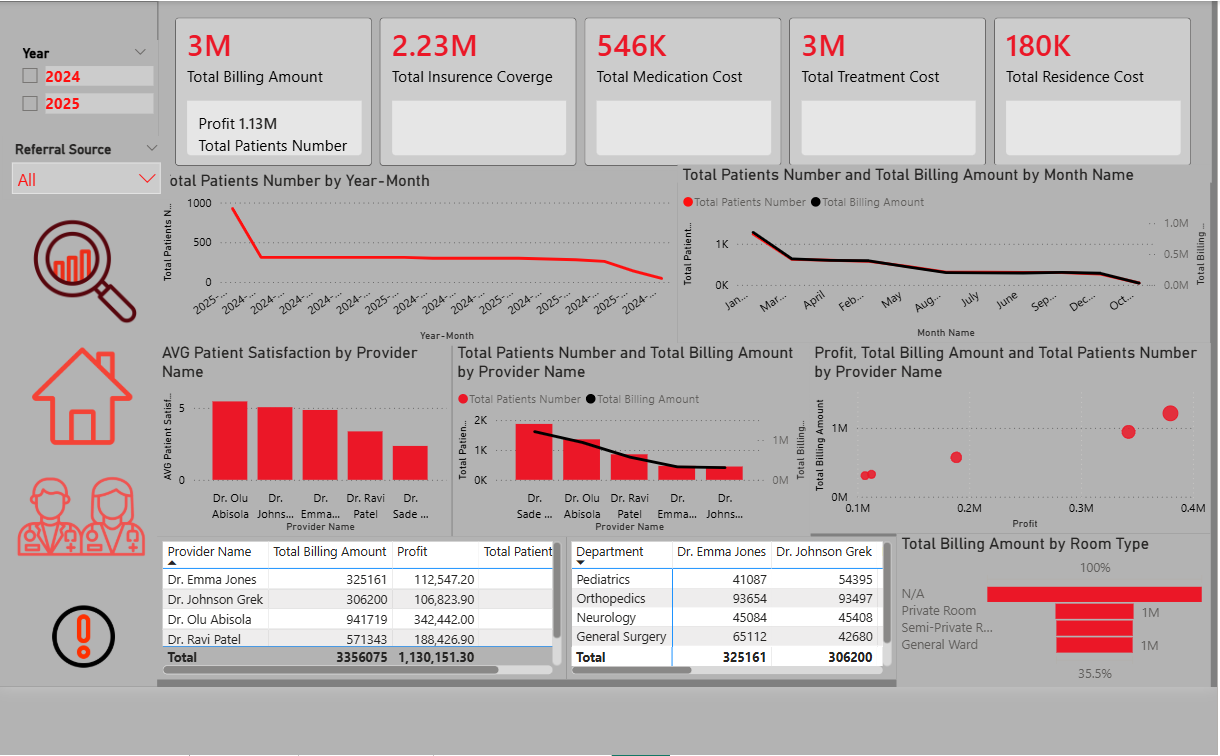

What the dashboard file says about the page in this screenshot:
{"tool":"powerbi","page":{"name":"More Detailed","canvas":[1280,720],"ordinal":2},"visuals":[{"type":"cardVisual","fields":{"Data":["Table Measures.Total Billing Amount","Table Measures.Total Insurence Coverge","Table Measures.Total Medication Cost","Table Measures.Total Treatment Cost","Table Measures.Total Residence Cost"]},"box":[168.1,0,1105.8,190.4],"z":0},{"type":"shape","box":[0,0,168.1,721],"z":1000},{"type":"image","box":[20.3,362.5,135.7,105.3],"z":2000},{"type":"image","box":[36.5,629.9,107.3,74.9],"z":3000},{"type":"image","box":[10.1,465.8,155.9,149.9],"z":4000},{"type":"image","box":[26.3,208.6,129.6,151.9],"z":5000},{"type":"columnChart","fields":{"Category":["providers.Provider Name"],"Y":["Table Measures.AVG Patient Satisfaction"]},"box":[167.5,359.5,309,203.3],"z":6000},{"type":"lineChart","fields":{"Category":["Date.Year-Month"],"Y":["Total Meausures.Total Patients Number"]},"box":[167.5,177.3,546.5,183.8],"z":7000},{"type":"lineChart","fields":{"Category":["Date.Month Name"],"Y":["Total Meausures.Total Patients Number"],"Y2":["Total Meausures.Total Billing Amount"]},"box":[714.1,172.4,559.5,187.1],"z":8000},{"type":"lineStackedColumnComboChart","fields":{"Y":["Total Meausures.Total Patients Number"],"Category":["providers.Provider Name"],"Y2":["Total Meausures.Total Billing Amount"]},"box":[476.6,359.5,375.7,203.3],"z":9000},{"type":"scatterChart","fields":{"Category":["providers.Provider Name"],"X":["Total Meausures.Profit"],"Y":["Total Meausures.Total Billing Amount"],"Size":["Total Meausures.Total Patients Number"]},"box":[852.3,359.5,421.3,200.1],"z":10000},{"type":"funnel","fields":{"Category":["visits.Room Type"],"Y":["Total Meausures.Total Billing Amount"]},"box":[943.4,559.5,330.2,161],"z":11000},{"type":"slicer","fields":{"Values":["Date.Year"]},"box":[12.2,40.5,155.9,101.3],"z":12000},{"type":"slicer","fields":{"Values":["visits.Referral Source"]},"box":[4.1,141.8,176.2,66.8],"z":13000},{"type":"tableEx","fields":{"Values":["providers.Provider Name","Total Meausures.Total Billing Amount","Total Meausures.Profit","Total Meausures.Total Patients Number"]},"box":[167.5,562.8,429.4,149.6],"z":14000},{"type":"pivotTable","fields":{"Rows":["departments.Department"],"Columns":["providers.Provider Name"],"Values":["Total Meausures.Total Billing Amount"]},"box":[597.5,563,346.3,149.9],"z":15000}]}

Visuals, with their boxes on the page's 1280x720 design canvas (x1, y1, x2, y2). These are canvas units, not pixel positions in the 1220x756 screenshot, which may show the page scaled, cropped or inside an application window:
cardVisual - Table Measures.Total Billing Amount x Table Measures.Total Insurence Coverge: 168 0 1274 190
shape: 0 0 168 721
image: 20 362 156 468
image: 36 630 144 705
image: 10 466 166 616
image: 26 209 156 360
columnChart - providers.Provider Name x Table Measures.AVG Patient Satisfaction: 168 360 476 563
lineChart - Date.Year-Month x Total Meausures.Total Patients Number: 168 177 714 361
lineChart - Date.Month Name x Total Meausures.Total Patients Number: 714 172 1274 360
lineStackedColumnComboChart - Total Meausures.Total Patients Number x providers.Provider Name: 477 360 852 563
scatterChart - providers.Provider Name x Total Meausures.Profit: 852 360 1274 560
funnel - visits.Room Type x Total Meausures.Total Billing Amount: 943 560 1274 720
slicer - Date.Year: 12 40 168 142
slicer - visits.Referral Source: 4 142 180 209
tableEx - providers.Provider Name x Total Meausures.Total Billing Amount: 168 563 597 712
pivotTable - departments.Department x providers.Provider Name: 598 563 944 713
